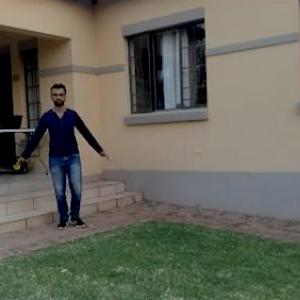land: (19, 92, 112, 238)
